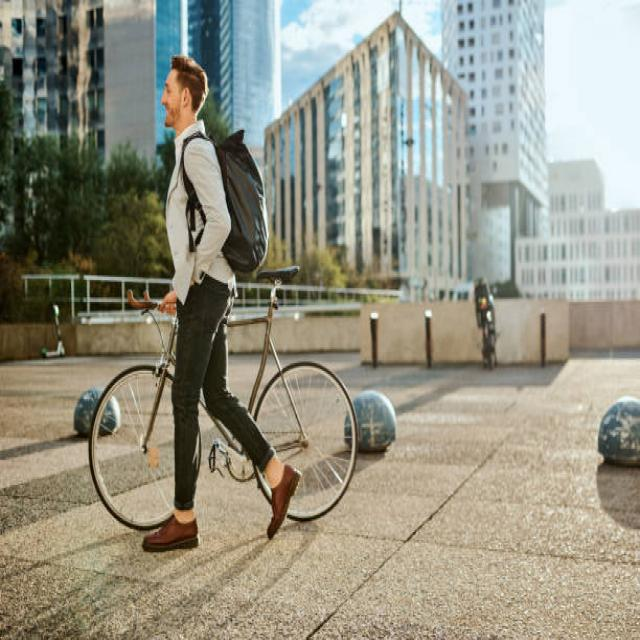bicycle: (89, 56, 358, 551)
